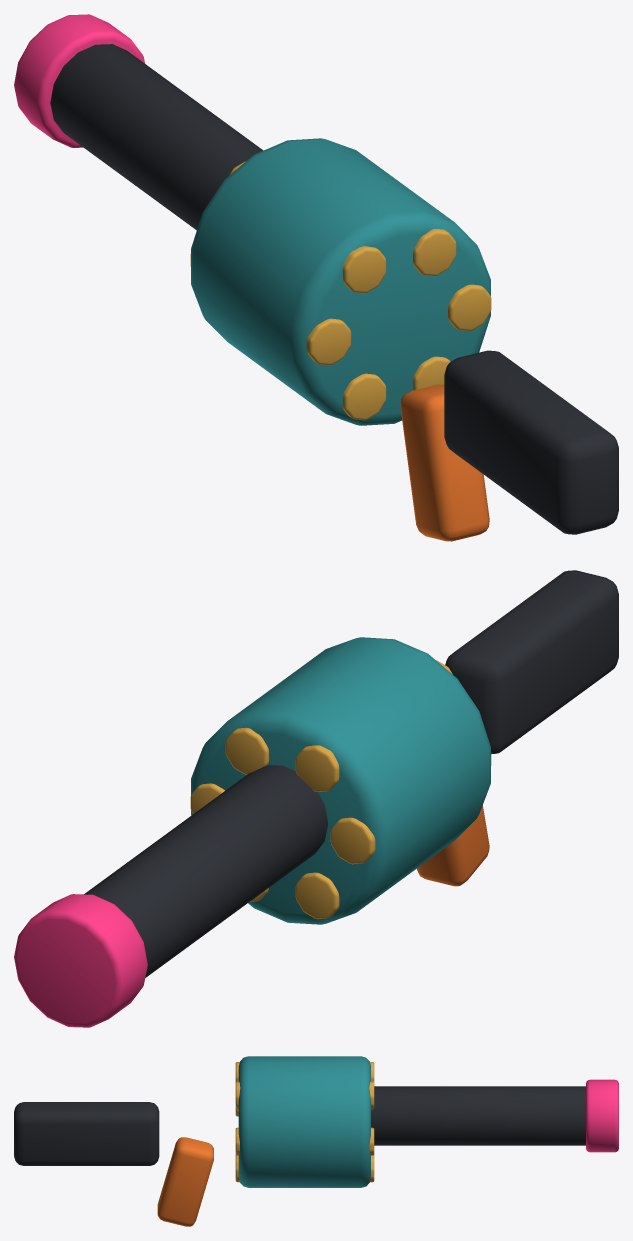
The model's file is launcher.glb.
3 views of the same model, one above another, from view 1: azimuth 30°, elevation 25°; view 2: azimuth 150°, elevation 25°; view 3: azimuth 270°, elevation 25° (orthographic). The views are drawn at different scales.
Parts seen in each view (by area): view 1: Drum, Stock, Barrel, Grip, Mouth, Shell2, Shell3, Shell1, Shell4, Shell0, Shell5; view 2: Drum, Barrel, Stock, Mouth, Grip, Shell2, Shell3, Shell4, Shell1; view 3: Drum, Barrel, Stock, Grip, Mouth, Shell0, Shell1.
Boxes of the visible parts, x1,y1,x2,y2 form: Drum: (191,138,490,425); Stock: (444,350,618,534); Barrel: (50,44,263,230); Grip: (400,384,489,541); Mouth: (14,14,144,147); Shell2: (229,161,386,293); Shell3: (190,254,351,365); Shell1: (413,229,456,275); Shell4: (342,373,386,420); Shell0: (448,284,491,330); Shell5: (413,356,450,390); Drum: (191,637,490,924); Barrel: (84,765,328,977); Stock: (445,570,618,754); Mouth: (14,894,147,1027); Grip: (417,805,489,886); Shell2: (295,660,452,791); Shell3: (330,753,491,864); Shell4: (295,872,339,919); Shell1: (225,727,268,774); Drum: (238,1056,370,1187); Barrel: (371,1086,585,1145); Stock: (14,1102,159,1165); Grip: (157,1137,213,1226); Mouth: (586,1079,618,1152); Shell0: (235,1127,374,1155); Shell1: (235,1081,374,1109).
Bounding box in the file's own units: 0.197 × 0.2674 × 0.915.
